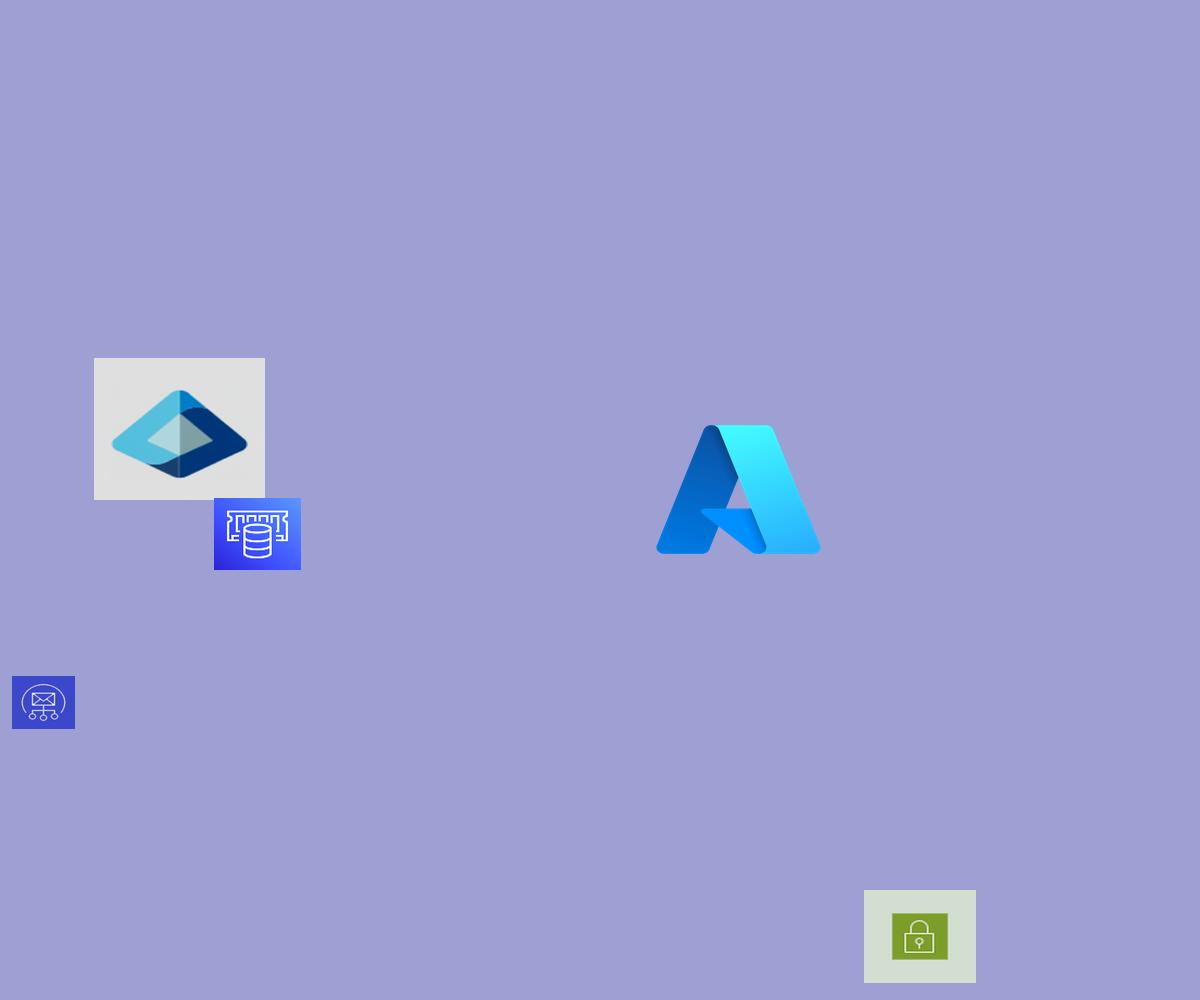AWS-ElastiCache: (214, 498, 301, 570)
AWS-Public-subnet: (864, 890, 976, 983)
AWS-Simple-Email-Service: (12, 676, 75, 729)
Azure_microsoft_entra: (94, 358, 265, 500)
Azure_services: (649, 415, 828, 564)
